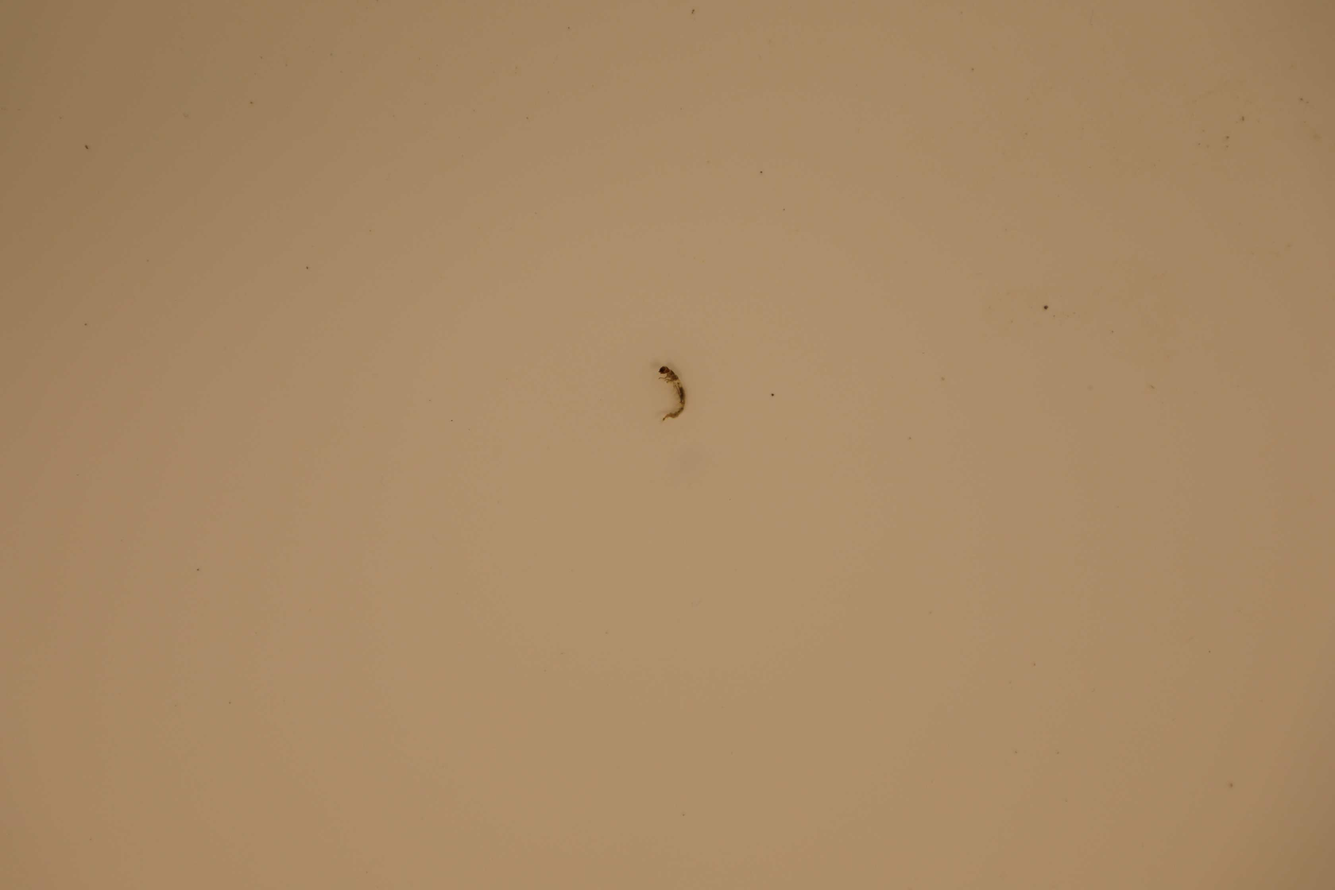Cadisfly: (651, 358, 689, 426)
